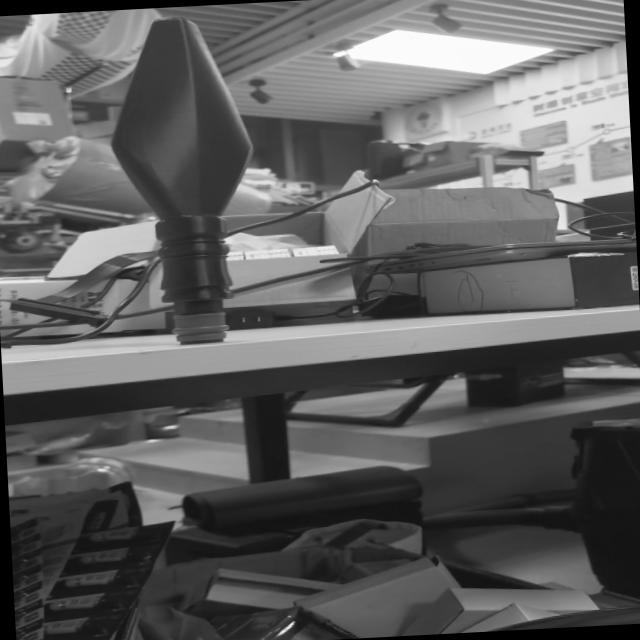base: (172, 312, 232, 344)
